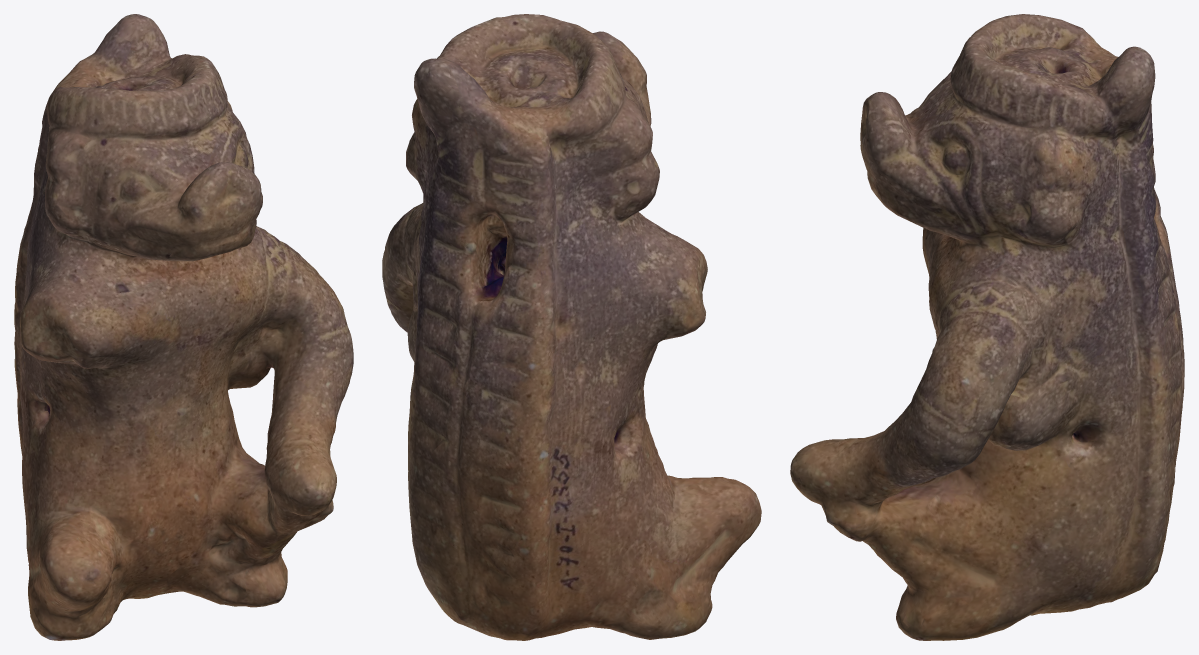
Rendered from instrumento_musical_zoomorfo.lod2.glb.
3 renders of one model, left to right at view 1: azimuth 30°, elevation 25°; view 2: azimuth 150°, elevation 25°; view 3: azimuth 270°, elevation 25°, orthographic. The views are drawn at different scales.
Visible parts, largest first — view 1: Object_2; view 2: Object_2; view 3: Object_2.
Part boxes in pixels (x1,y1,x2,y2): Object_2: (14,14,353,640); Object_2: (382,14,761,640); Object_2: (790,14,1184,640).
Bounding box in the file's own units: 0.152 × 0.2428 × 0.1505.
Materials: 1 (1 with a texture image).
